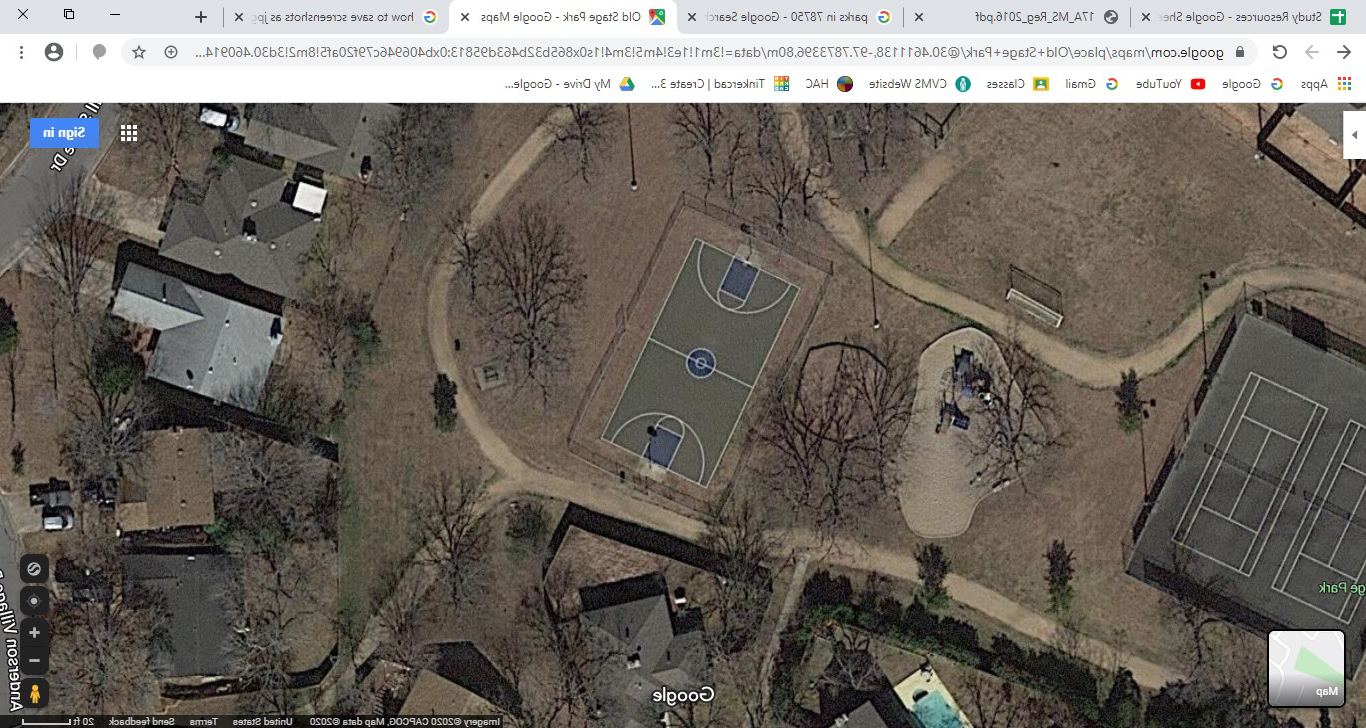basketball: (592, 196, 803, 516)
